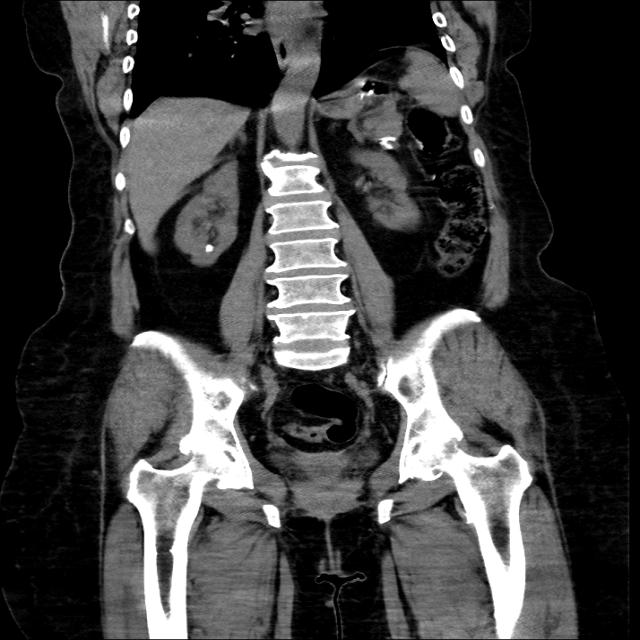kidneystone: (204, 244, 213, 252)
